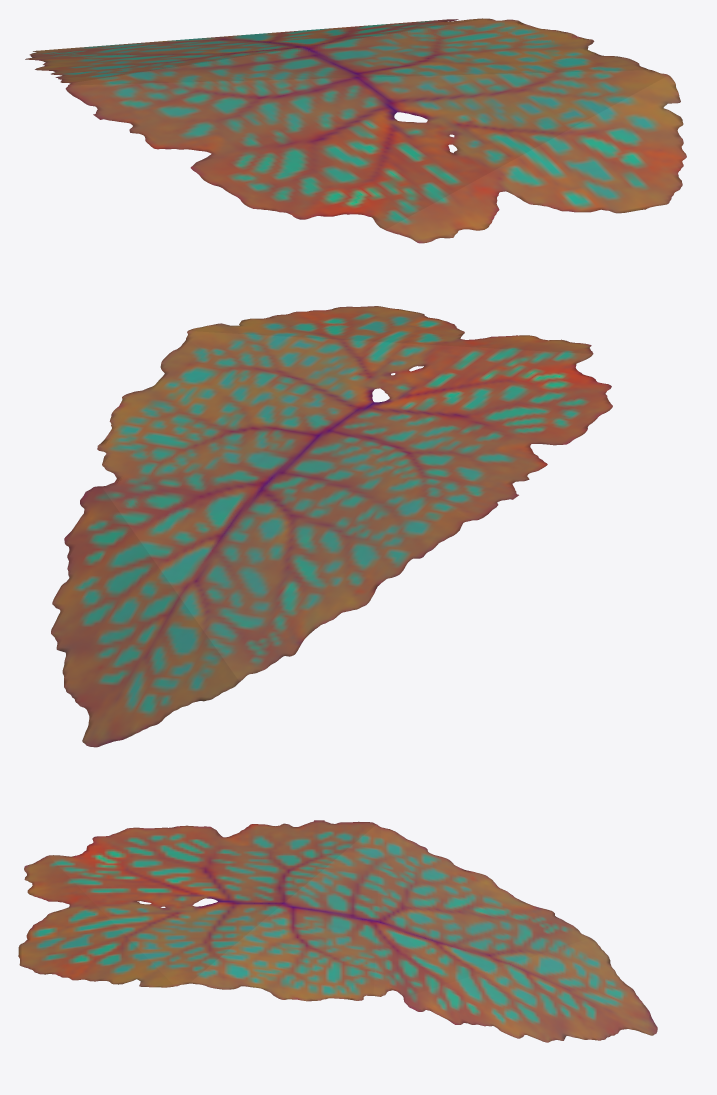
File: Spin Reef Leaf B.fbx
The picture shows the model from 3 angles, top to bottom: view 1: azimuth 30°, elevation 25°; view 2: azimuth 150°, elevation 25°; view 3: azimuth 270°, elevation 25°; orthographic projection. The views are drawn at different scales.
Parts seen in each view (by area): view 1: Spin Reef Leaf B; view 2: Spin Reef Leaf B; view 3: Spin Reef Leaf B.
Boxes of the visible parts, x1,y1,x2,y2 form: Spin Reef Leaf B: (25,18,686,243); Spin Reef Leaf B: (51,306,612,747); Spin Reef Leaf B: (18,820,657,1042).
Size of the model in its own units: 43.76 by 18.34 by 74.38.
